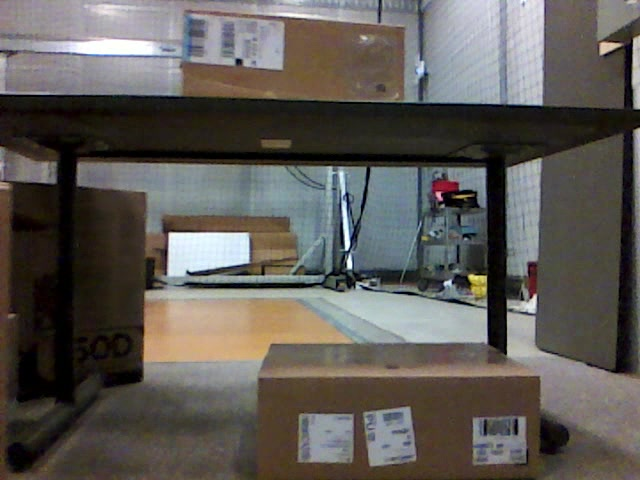box: (257, 343, 541, 479), (178, 10, 407, 99)
